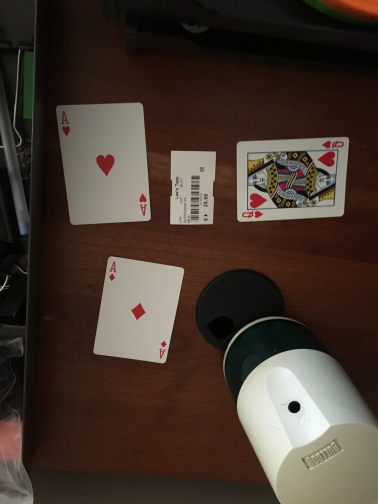ace: (53, 101, 155, 227), (92, 254, 185, 367)
queen: (235, 135, 348, 224)
